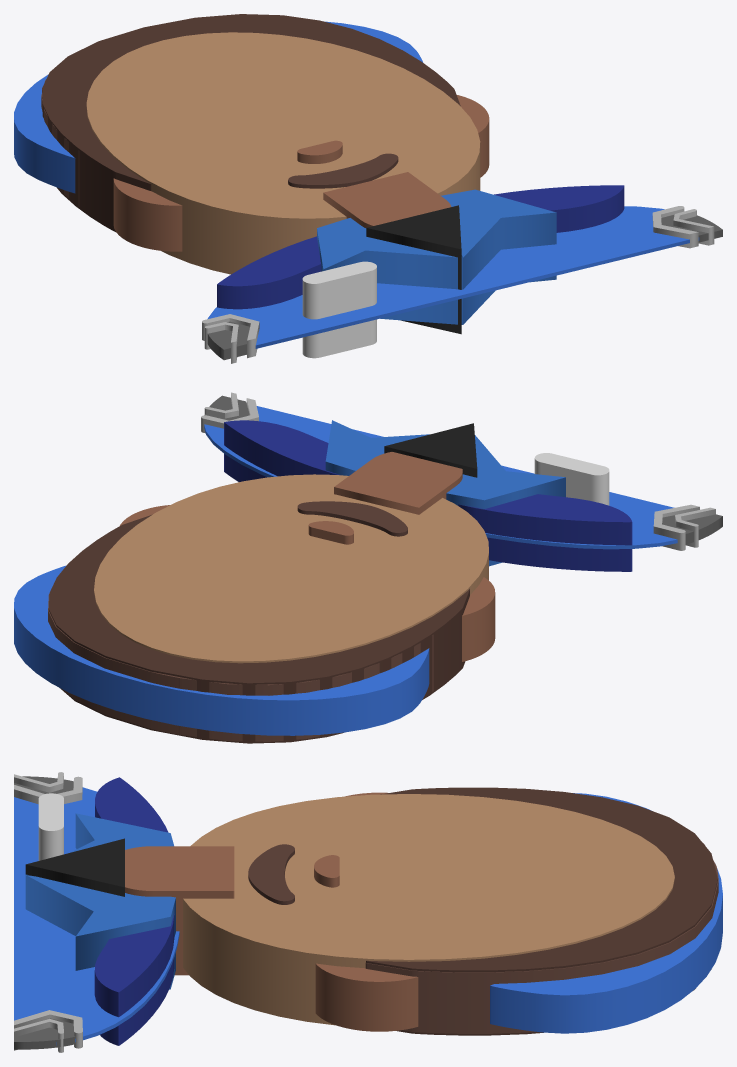
File: emoji_u1f46e_1f3fd_200d_2642.glb
The picture shows the model from 3 angles, top to bottom: view 1: azimuth 30°, elevation 25°; view 2: azimuth 150°, elevation 25°; view 3: azimuth 270°, elevation 25°; orthographic projection. The views are drawn at different scales.
Visible parts, largest first — view 1: emoji_u1f46e_1f3fd_200d_2642; view 2: emoji_u1f46e_1f3fd_200d_2642; view 3: emoji_u1f46e_1f3fd_200d_2642.
Part boxes in pixels (x1,y1,x2,y2): emoji_u1f46e_1f3fd_200d_2642: [14, 14, 722, 363]; emoji_u1f46e_1f3fd_200d_2642: [14, 392, 722, 743]; emoji_u1f46e_1f3fd_200d_2642: [14, 772, 722, 1052].
Bounding box in the file's own units: 0.0295 × 0.0048 × 0.0336.
